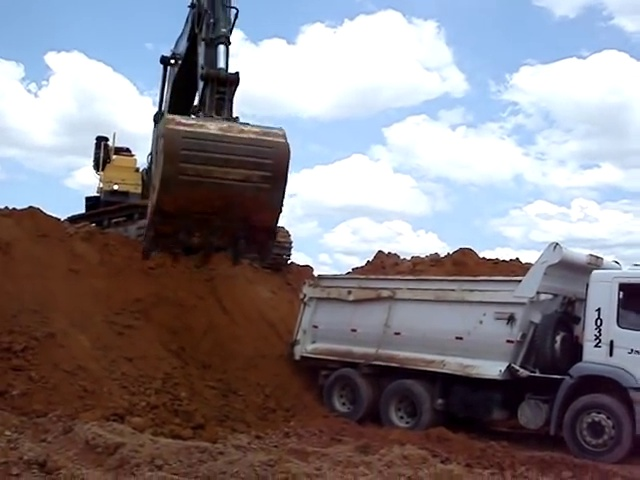excavator: (68, 1, 296, 269)
truck: (296, 240, 640, 461)
